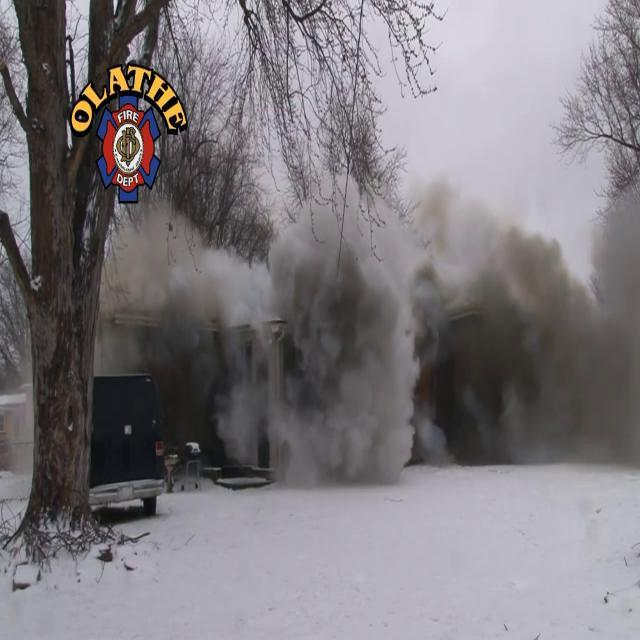Smoke: (102, 74, 640, 493)
